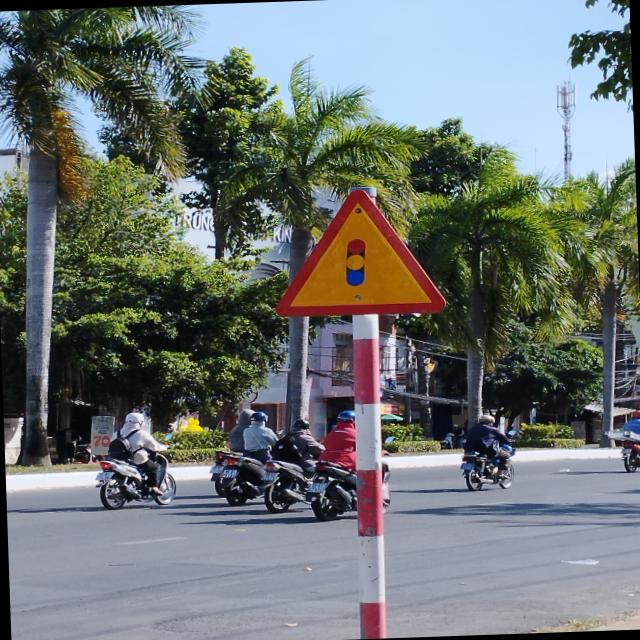Duong_Co_Go_Giam_Toc: (271, 186, 445, 317)
